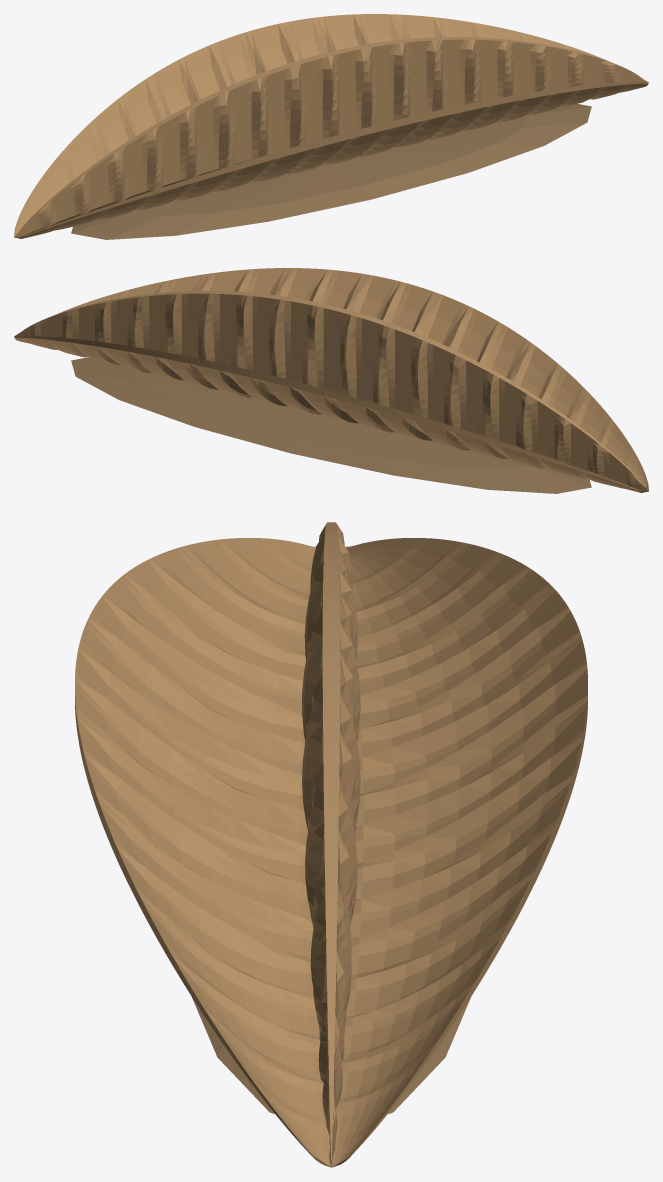
3 views of the same model, one above another, from view 1: azimuth 30°, elevation 25°; view 2: azimuth 150°, elevation 25°; view 3: azimuth 270°, elevation 25° (orthographic). The views are drawn at different scales.
Parts seen in each view (by area): view 1: integrated_three_quilted_vanes_canoe_fossil_interpreted_post, small_original_supporting_fossil_matrix; view 2: integrated_three_quilted_vanes_canoe_fossil_interpreted_post, small_original_supporting_fossil_matrix; view 3: integrated_three_quilted_vanes_canoe_fossil_interpreted_post, small_original_supporting_fossil_matrix.
Boxes of the visible parts, box(x1,y1,x2,y2) form: integrated_three_quilted_vanes_canoe_fossil_interpreted_post: box(14, 14, 648, 238); small_original_supporting_fossil_matrix: box(71, 104, 591, 239); integrated_three_quilted_vanes_canoe_fossil_interpreted_post: box(14, 268, 648, 492); small_original_supporting_fossil_matrix: box(71, 357, 591, 493); integrated_three_quilted_vanes_canoe_fossil_interpreted_post: box(75, 522, 587, 1167); small_original_supporting_fossil_matrix: box(192, 997, 470, 1113).
Bounding box in the file's own units: 0.2 × 0.038 × 0.07.
